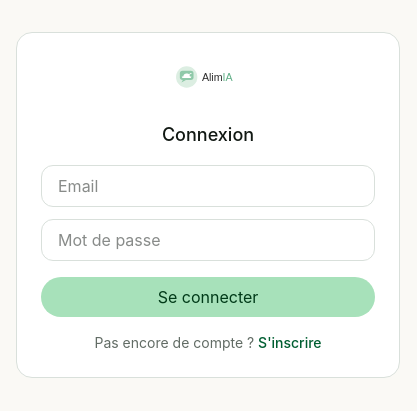
Test: affiche une erreur si les identifiants sont incorrects
This screenshot has width=417, height=411.
Type "camille@example.com" into the field with placeholder "Email" at (208, 186), box [41, 165, 375, 207]
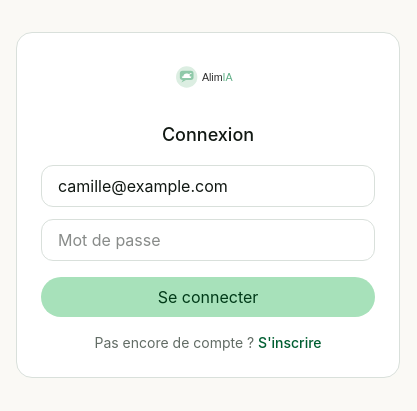
Type "MauvaisMotDePasse" into the password field with placeholder "Mot de passe" at (208, 240), box [41, 219, 375, 261]
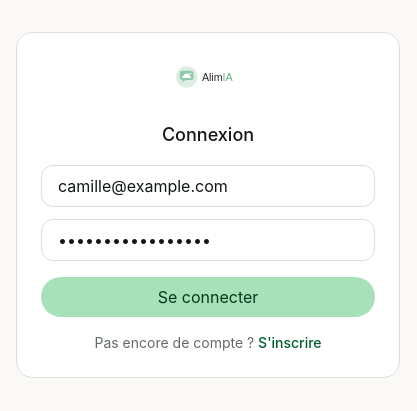
Click the button "Se connecter" at (208, 297), box [41, 277, 375, 317]
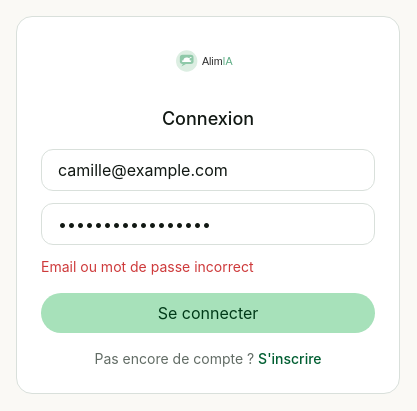
Expected: the text "Email ou mot de passe incorrect" is shown, [41, 258, 254, 275]
